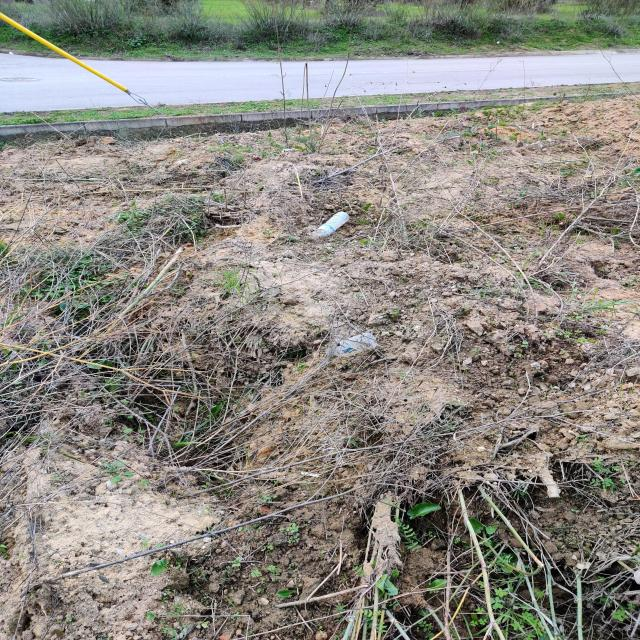litter: (326, 333, 377, 357), (312, 211, 350, 237)
